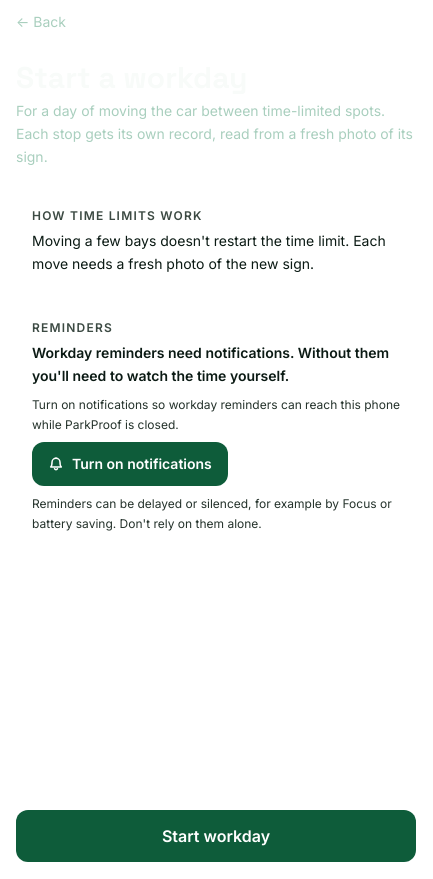
Test: WorkdayStart › asks for notifications, then reads the permission again
Expected: the text "Workday reminders need notifications. Without them you'll need to watch the time yourself." is shown, [32,344,389,384]
Expected: the text "Turn on notifications so workday reminders can reach this phone while ParkProof is closed." is shown, [32,397,400,432]
Click the button "Turn on notifications". click: (130, 464)
box: [32,442,228,486]
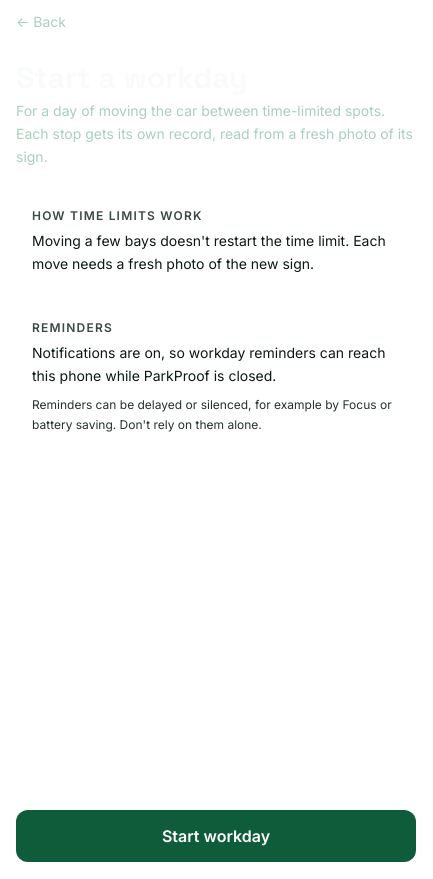
Now the text "Notifications are on, so workday reminders can reach this phone while ParkProof is closed." is shown, box [32,344,385,384]
Now the text "Workday reminders need notifications. Without them you'll need to watch the time yourself." is gone
